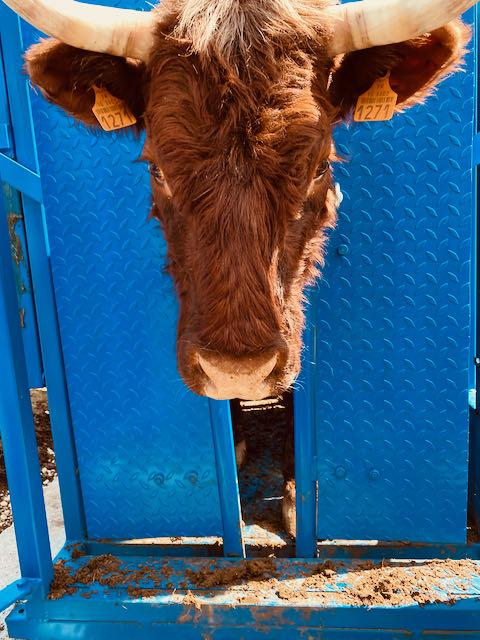muzzles: (167, 341, 312, 416)
